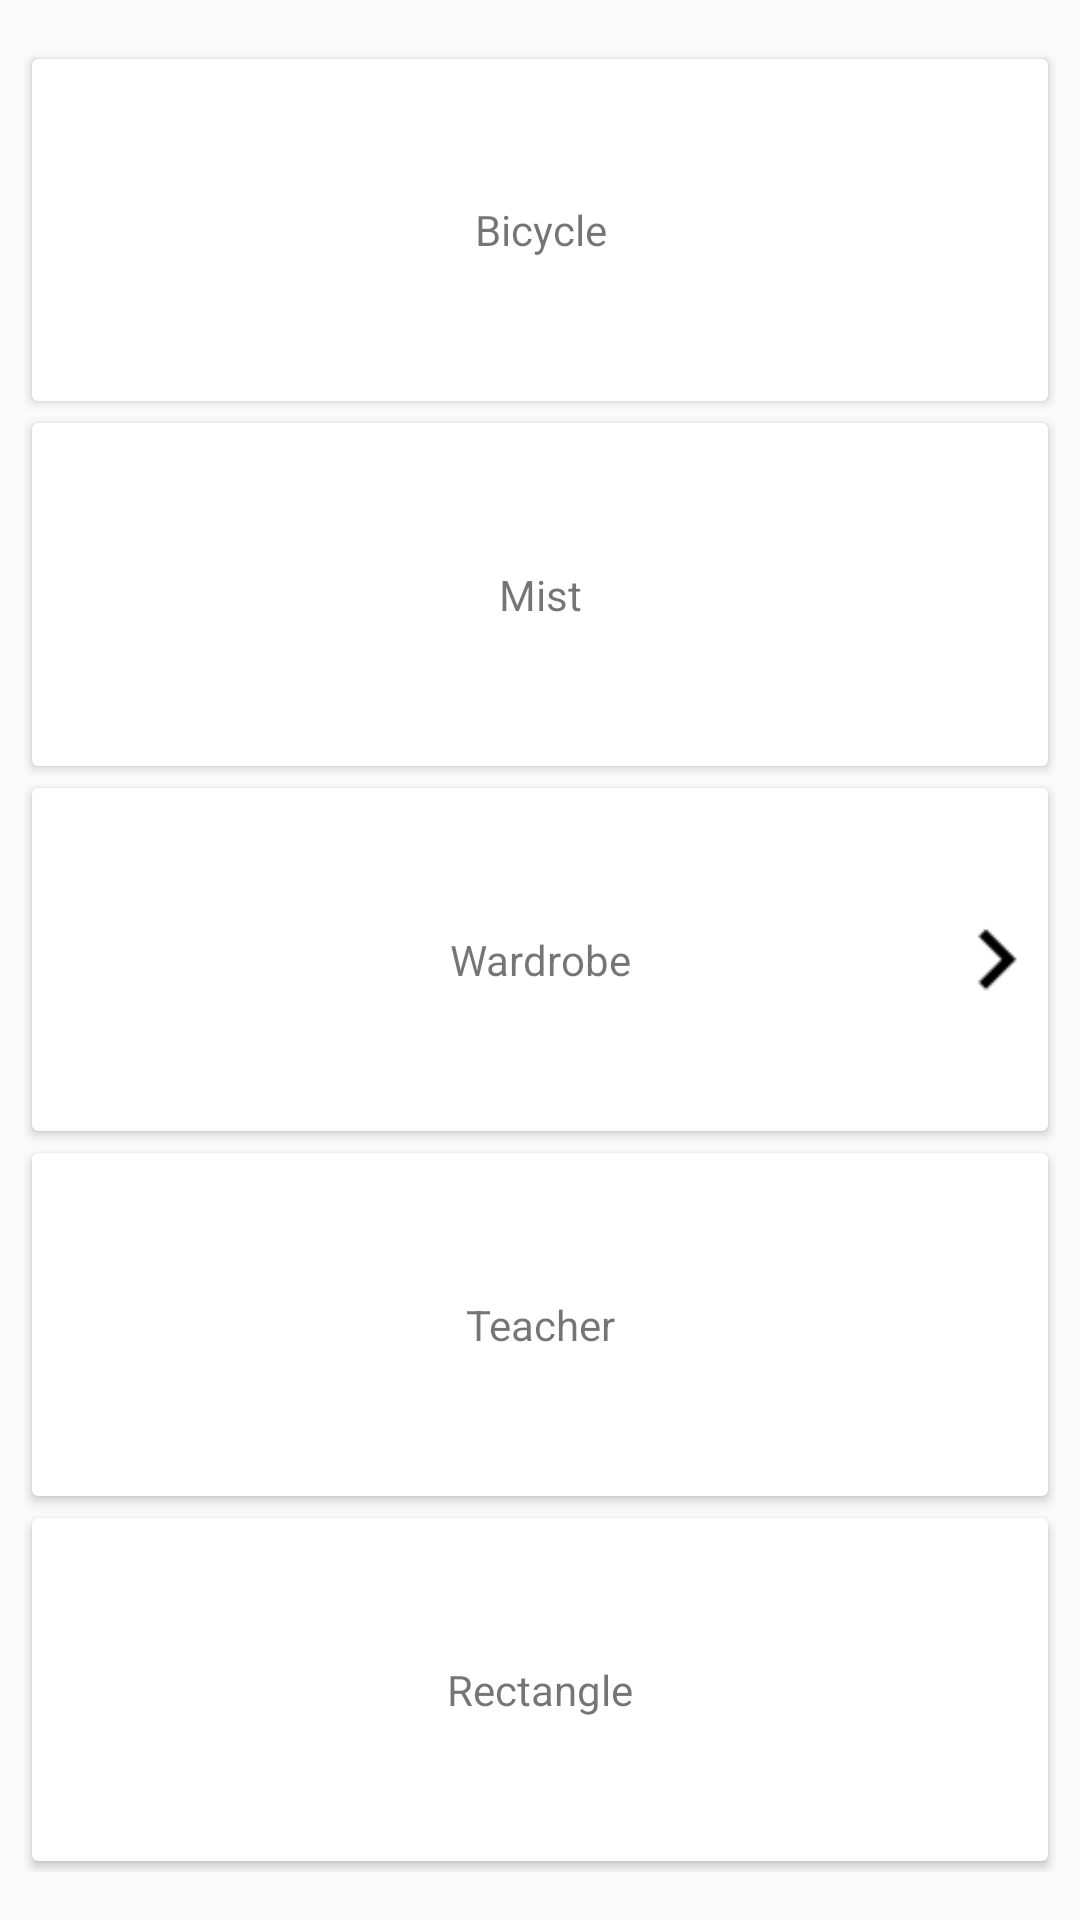

Named icons in this screenshot (1080×1920) and their bounding boxes, [left=x1, top=y1, right=x2, bottom=y2]:
keyboard arrow right: [left=978, top=929, right=1017, bottom=990]
